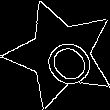O_NW: (26, 21, 94, 88)
